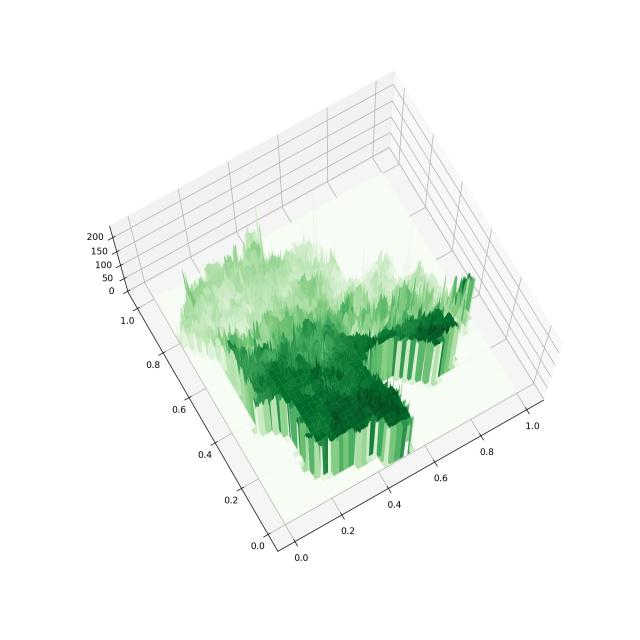trembling aspen: (70, 22, 600, 601)
